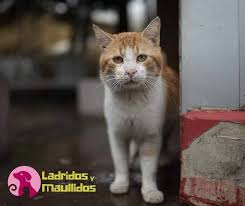cat: (82, 22, 177, 202)
